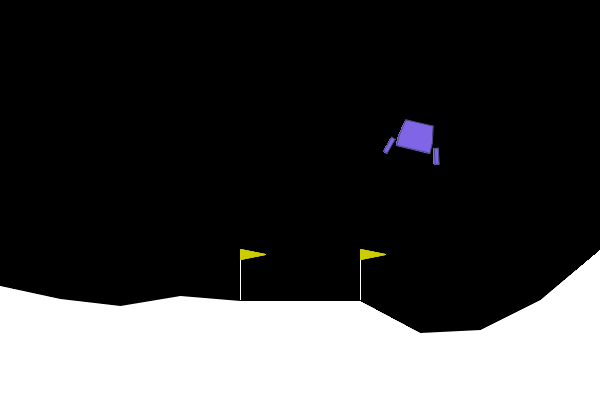lander: (381, 114, 449, 167)
